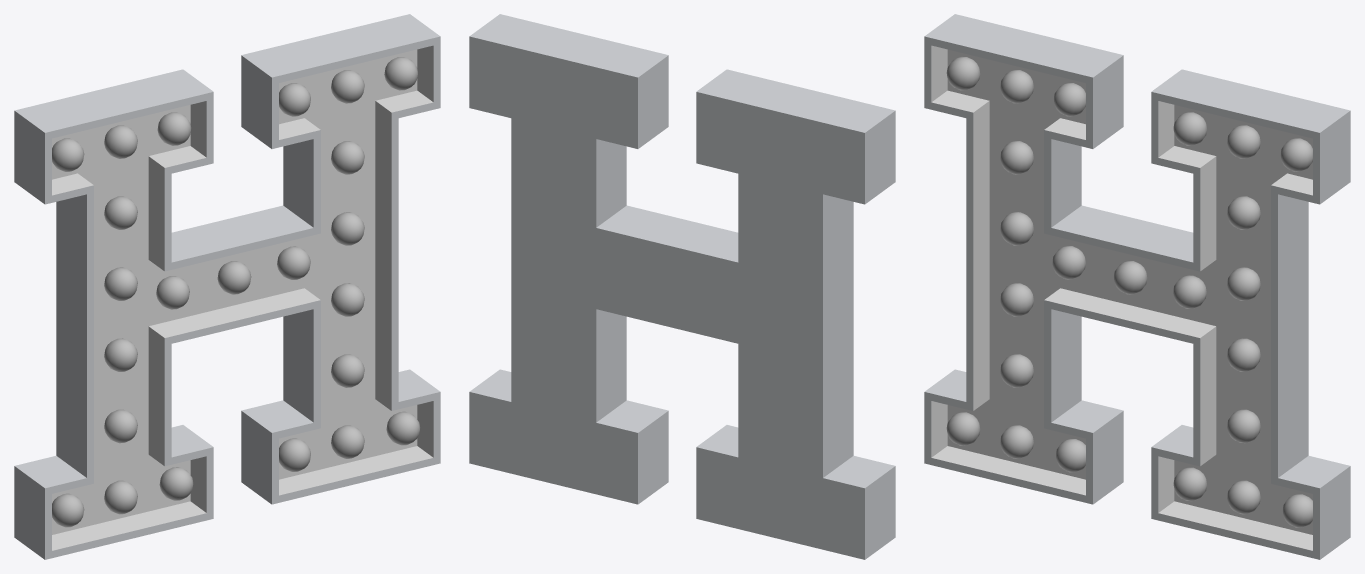
The model's file is LettersBulb01_H.FBX.
The picture shows the model from 3 angles, left to right: view 1: azimuth 30°, elevation 25°; view 2: azimuth 150°, elevation 25°; view 3: azimuth 330°, elevation 25°; orthographic projection.
Parts seen in each view (by area): view 1: LettersBulb01_H; view 2: LettersBulb01_H; view 3: LettersBulb01_H.
Boxes of the visible parts, bbox=[...] form: LettersBulb01_H: bbox=[14, 14, 440, 559]; LettersBulb01_H: bbox=[469, 14, 895, 559]; LettersBulb01_H: bbox=[924, 14, 1350, 559].
Size of what is drawn, in the model's own units: 1.16 by 1.2 by 0.1563.
